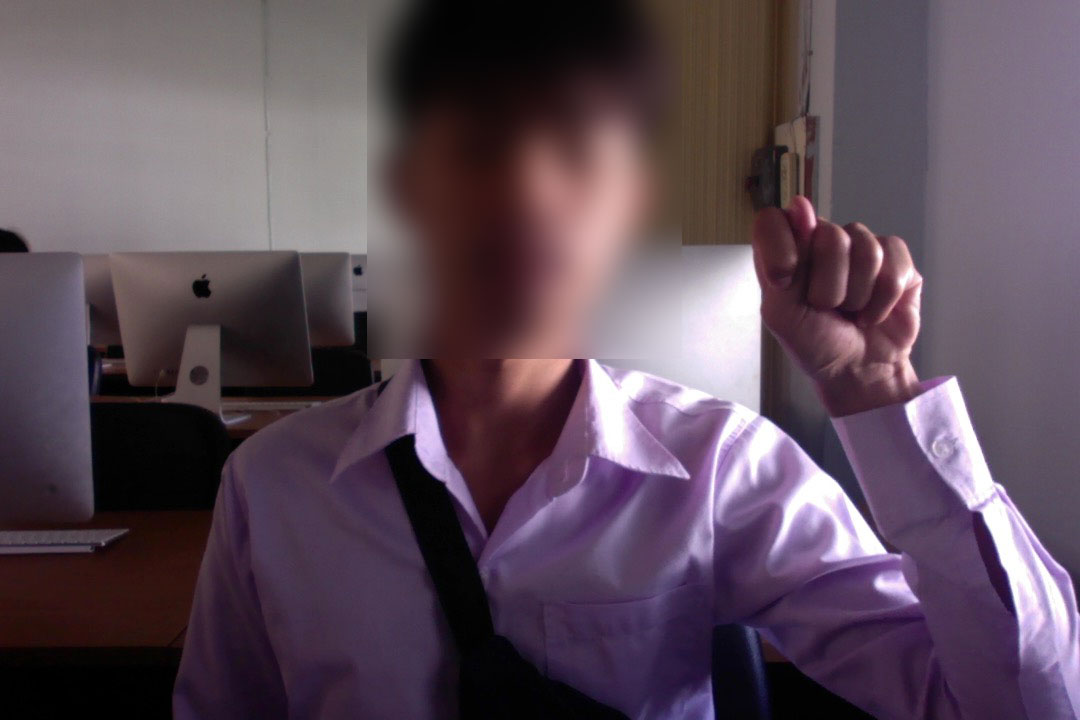tor: (749, 195, 931, 409)
